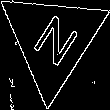N_SW: (24, 8, 80, 73)
